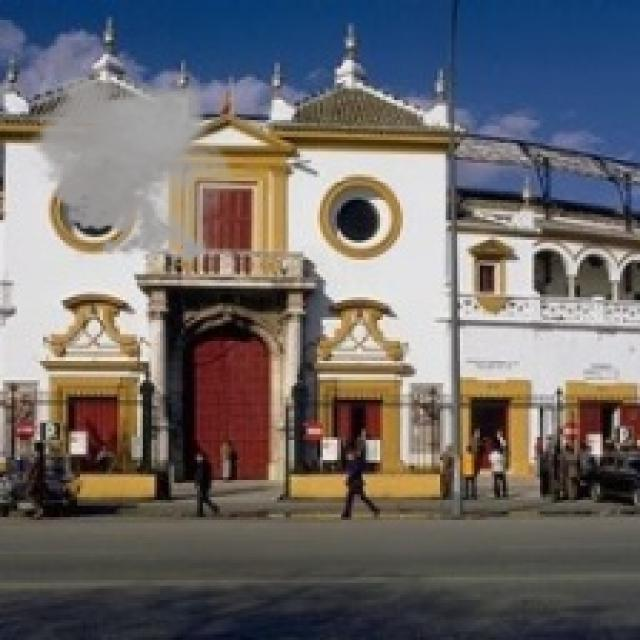smoke: (23, 69, 243, 268)
